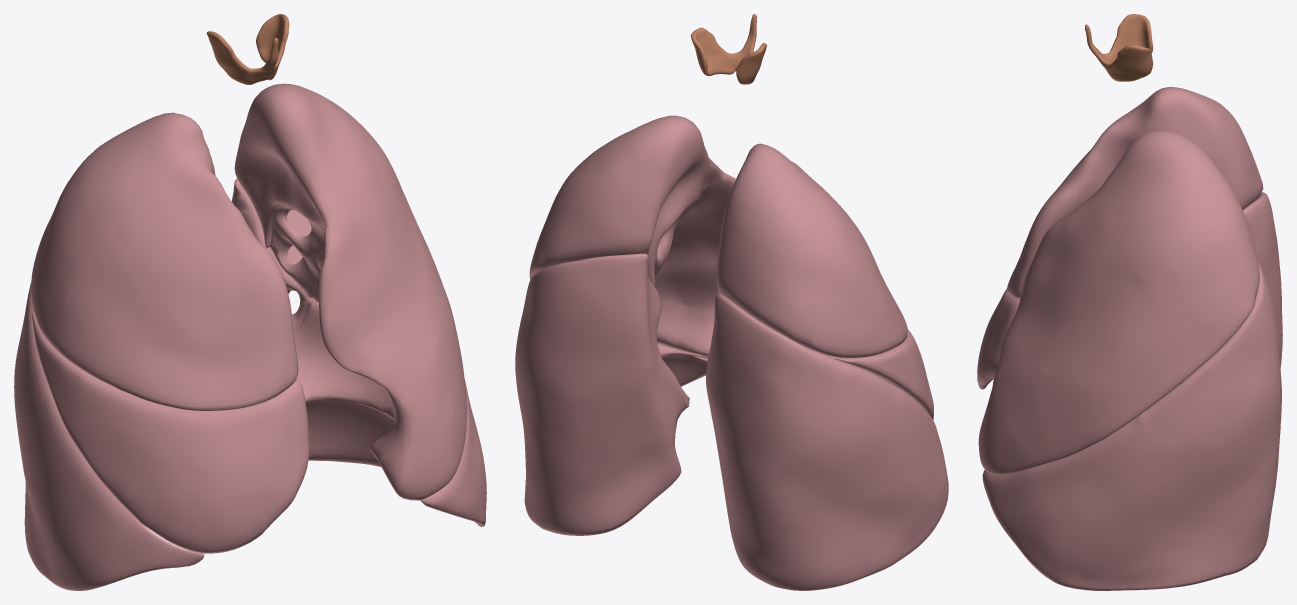
File: z-organs-male.glb
The picture shows the model from 3 angles, left to right: view 1: azimuth 30°, elevation 25°; view 2: azimuth 150°, elevation 25°; view 3: azimuth 270°, elevation 25°; orthographic projection. The views are drawn at different scales.
Parts seen in each view (by area): view 1: lung_surface_r_upper, lung_surface_l_upper (×2), lung_surface_r_middle, lung_surface_r_lower, lung_surface_l_lower (×2), thyroid; view 2: lung_surface_r_lower, lung_surface_l_lower, lung_surface_l_upper, lung_surface_r_upper, lung_surface_r_middle, thyroid; view 3: lung_surface_l_upper, lung_surface_l_lower, lung_surface_r_upper, thyroid, lung_surface_r_lower, lung_surface_r_middle.
Part boxes in pixels (bbox=[...]): lung_surface_r_upper: bbox=[31, 112, 298, 410]; lung_surface_l_upper (×2): bbox=[234, 83, 466, 500]; lung_surface_r_middle: bbox=[31, 310, 309, 553]; lung_surface_r_lower: bbox=[14, 282, 204, 590]; lung_surface_l_lower (×2): bbox=[231, 178, 486, 526]; thyroid: bbox=[206, 14, 289, 84]; lung_surface_r_lower: bbox=[706, 293, 948, 590]; lung_surface_l_lower: bbox=[515, 253, 707, 535]; lung_surface_l_upper: bbox=[529, 115, 735, 358]; lung_surface_r_upper: bbox=[716, 143, 907, 358]; lung_surface_r_middle: bbox=[825, 329, 933, 419]; thyroid: bbox=[691, 14, 766, 84]; lung_surface_l_upper: bbox=[978, 130, 1259, 474]; lung_surface_l_lower: bbox=[982, 261, 1281, 590]; lung_surface_r_upper: bbox=[1007, 87, 1263, 298]; thyroid: bbox=[1085, 14, 1153, 81]; lung_surface_r_lower: bbox=[993, 192, 1282, 379]; lung_surface_r_middle: bbox=[977, 289, 1020, 389].
Size of the model in its own units: 0.261 by 0.3218 by 0.1857.
